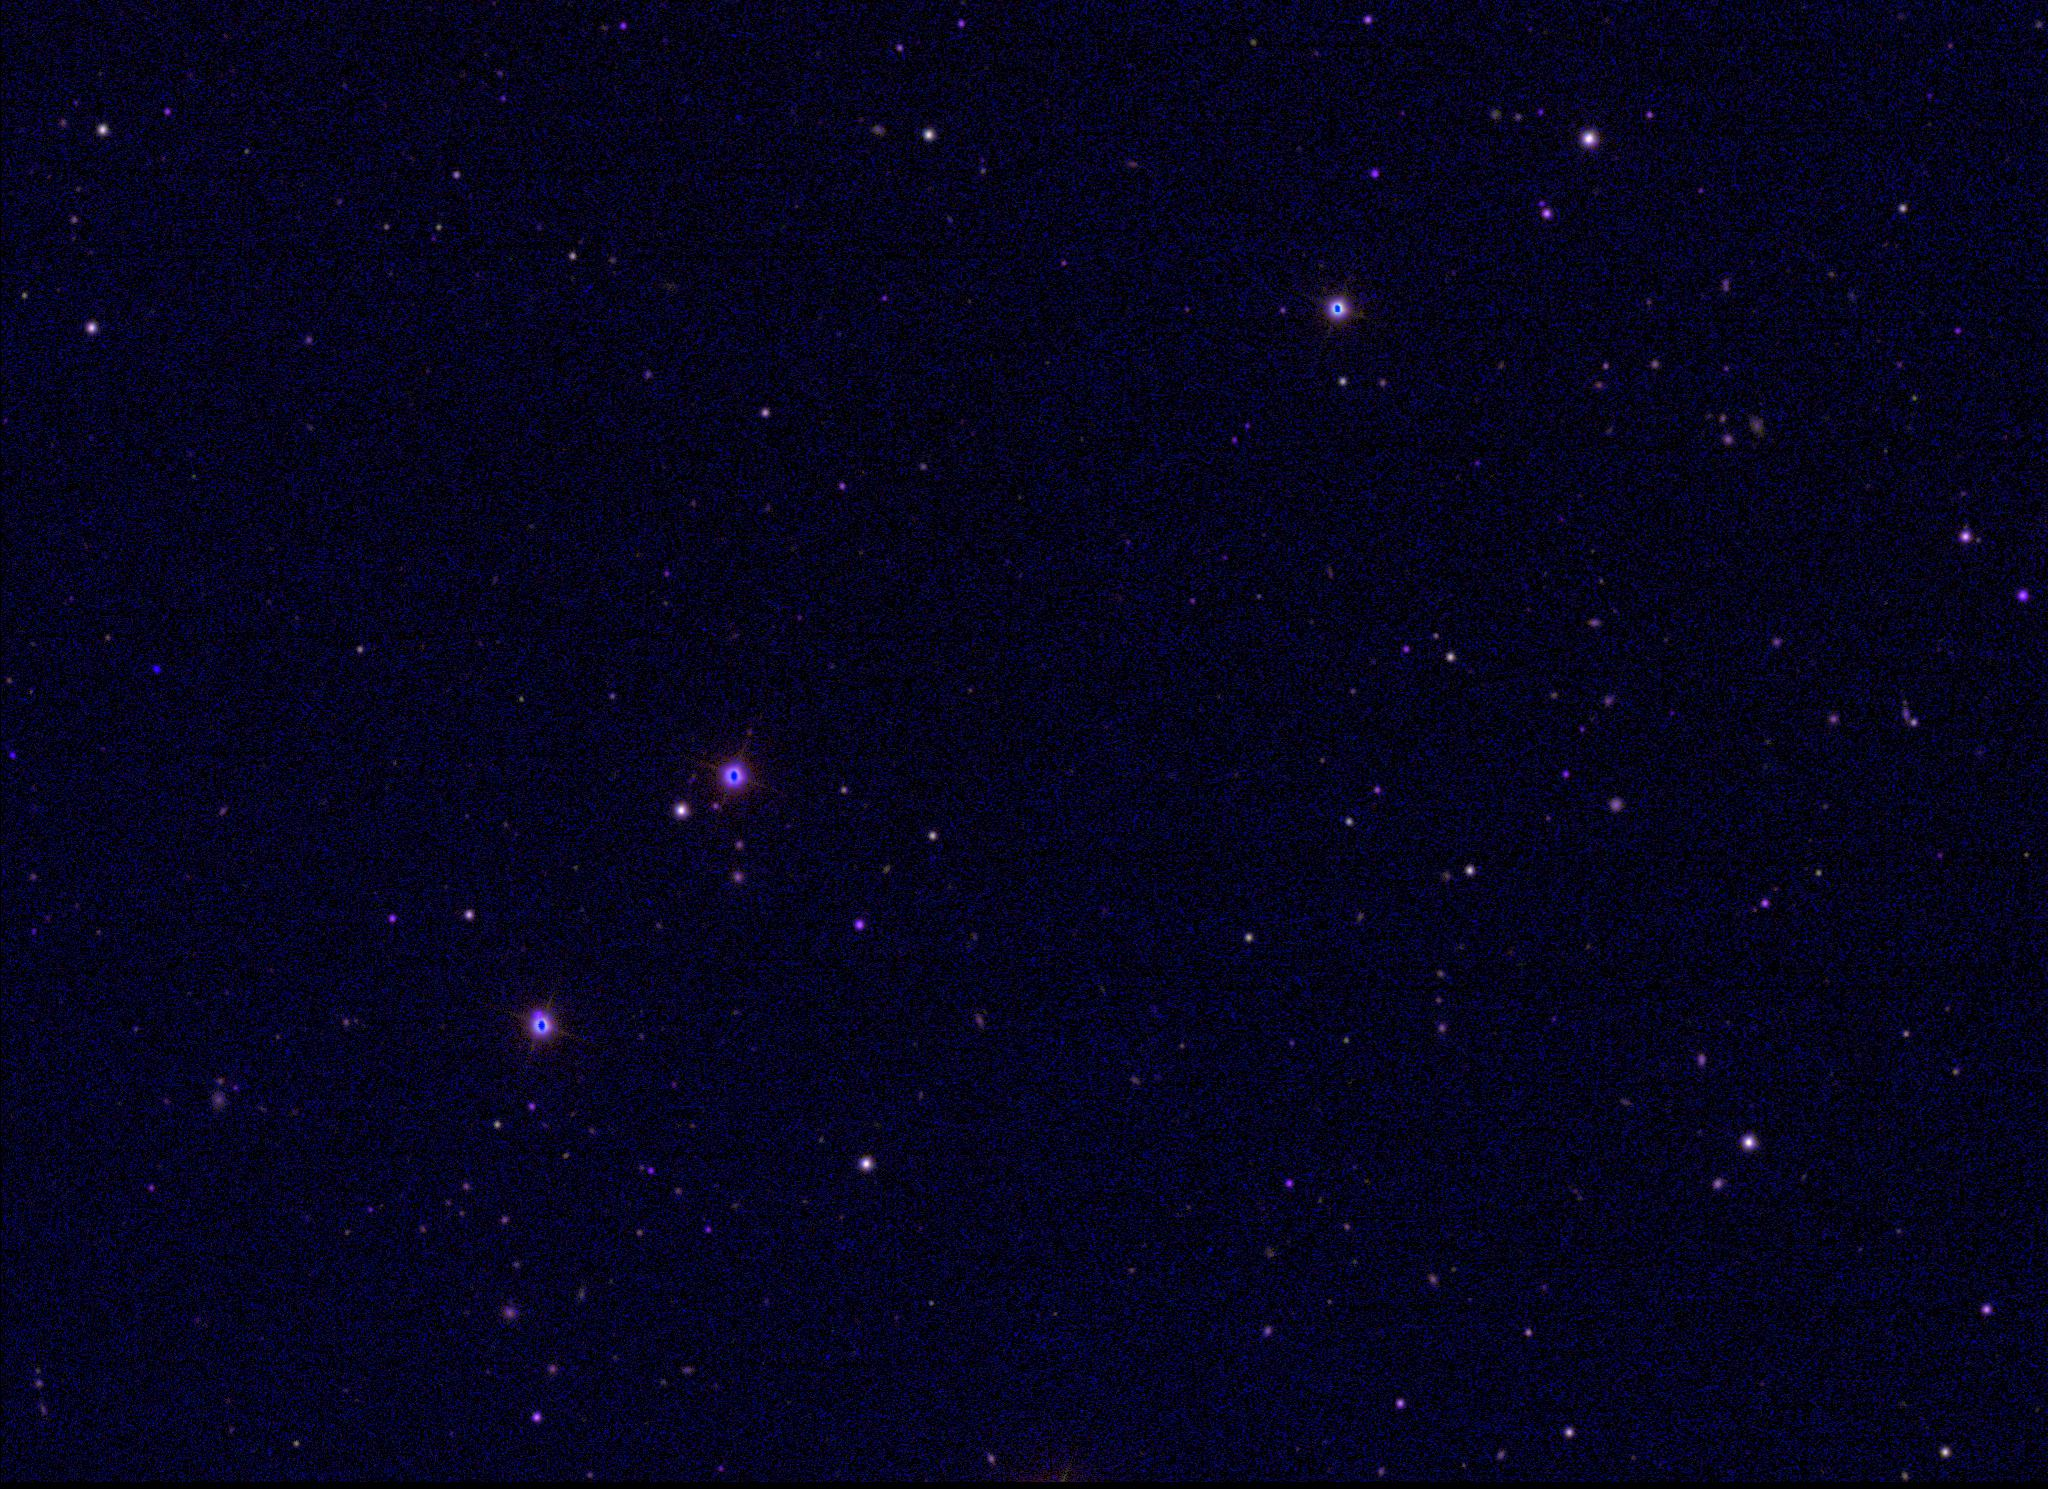L: (148, 659, 162, 673)
